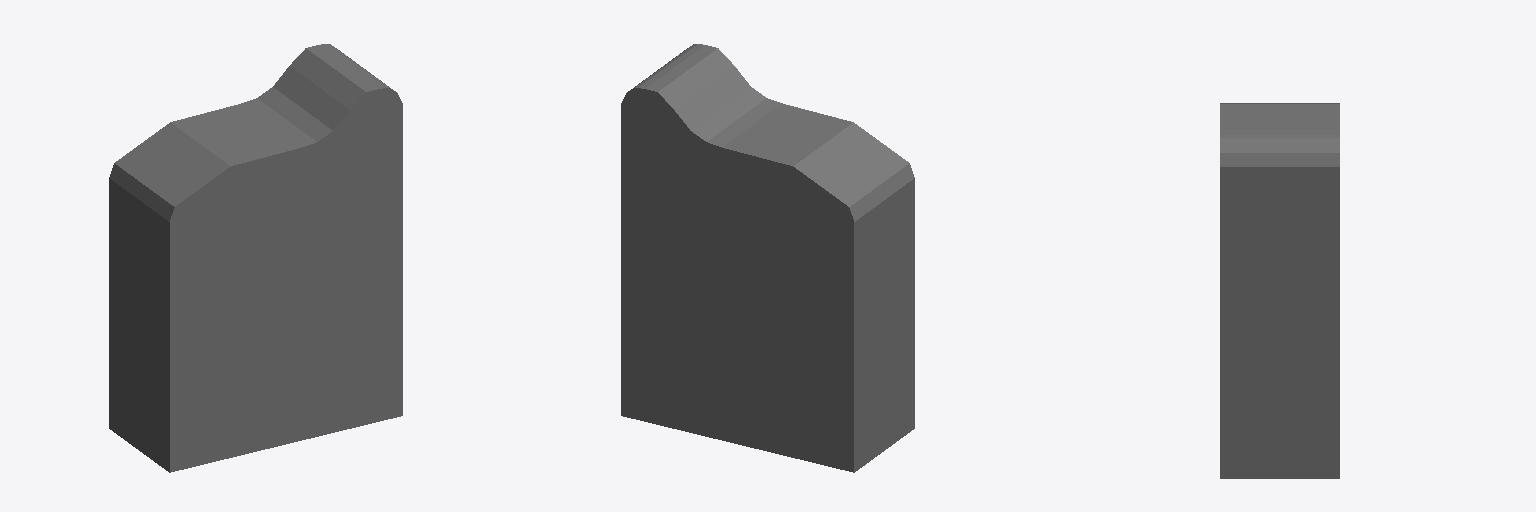
The model's file is Can.obj.
3 renders of one model, left to right at view 1: azimuth 30°, elevation 25°; view 2: azimuth 150°, elevation 25°; view 3: azimuth 270°, elevation 25°, orthographic.
Parts seen in each view (by area): view 1: WhiteBox; view 2: WhiteBox; view 3: WhiteBox.
Boxes of the visible parts, box(x1,y1,x2,y2) form: WhiteBox: box(109, 44, 402, 472); WhiteBox: box(621, 44, 914, 472); WhiteBox: box(1220, 103, 1339, 478).
Size of the model in its own units: 14.5 by 19.76 by 6.5.